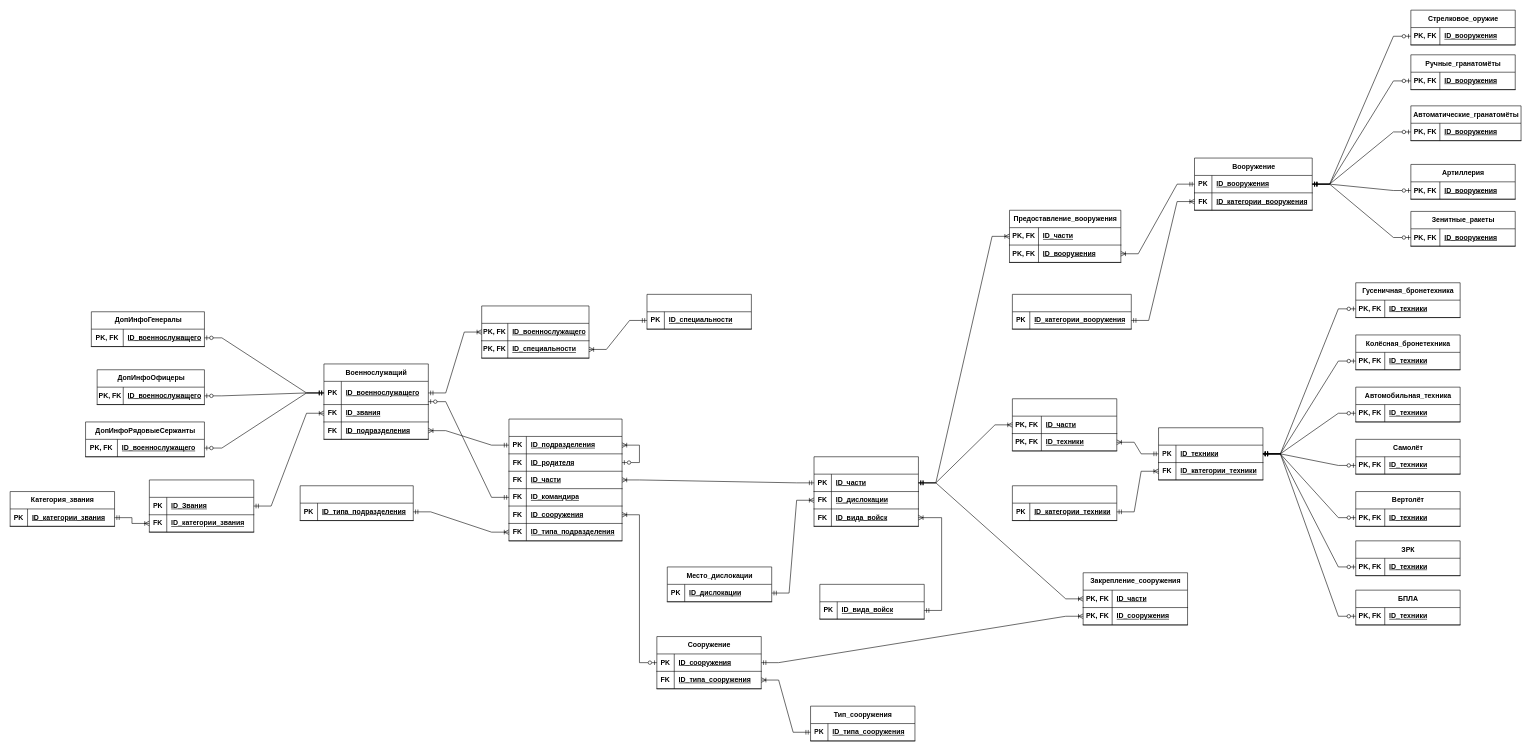
Some shapes in this 1531 by 751 pixel diagram are drawn without their labels. Here are the shapes that lost their labels. From the top down, the box of each, then its label:
(481, 305, 589, 358): Назначение_специальности
(646, 294, 751, 329): Специальность
(1012, 294, 1131, 329): Категория_вооружения
(1012, 398, 1117, 451): Предоставление_техники
(1158, 427, 1263, 480): Техника
(508, 418, 622, 541): Подразделение
(813, 456, 918, 526): Воинская_часть
(149, 479, 254, 532): Звание
(300, 485, 413, 521): Тип_подразделения
(1012, 485, 1117, 521): Категория_техники
(819, 584, 924, 619): Виды_войск
